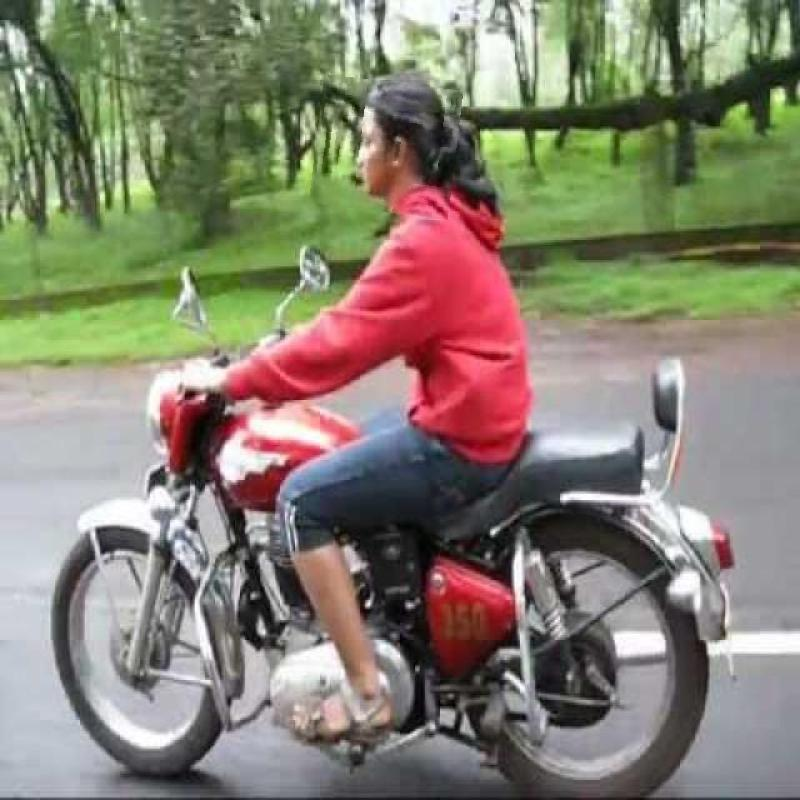nohelmet: (312, 78, 460, 216)
